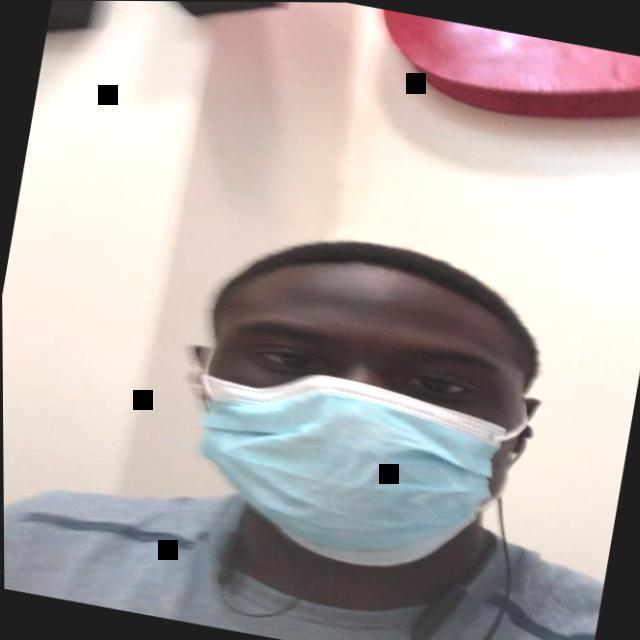Mask: (171, 260, 546, 591)
